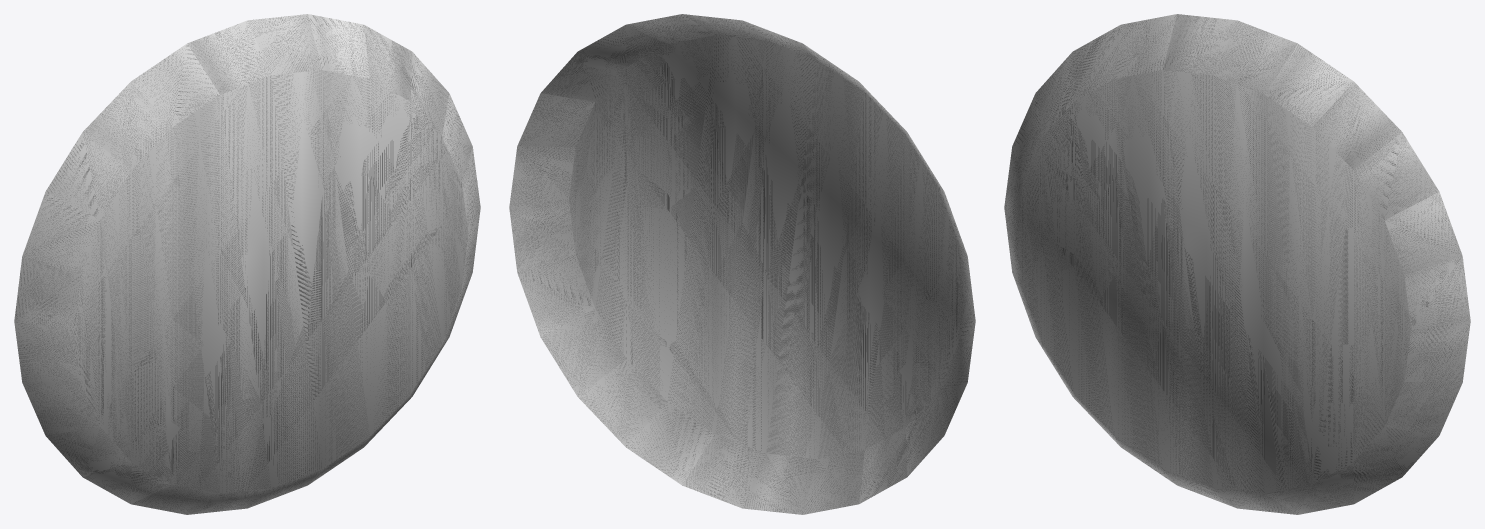
File: original-34.obj
The picture shows the model from 3 angles, left to right: view 1: azimuth 30°, elevation 25°; view 2: azimuth 150°, elevation 25°; view 3: azimuth 330°, elevation 25°; orthographic projection.
Visible parts, largest first — view 1: #ID208; view 2: #ID208; view 3: #ID208.
Boxes of the visible parts, <box> form: #ID208: <box>14,14,480,514</box>; #ID208: <box>509,14,975,514</box>; #ID208: <box>1004,14,1470,514</box>.
Bounding box in the file's own units: 0.0146 × 0.0146 × 0.00129.
2 materials, 1 textured.
